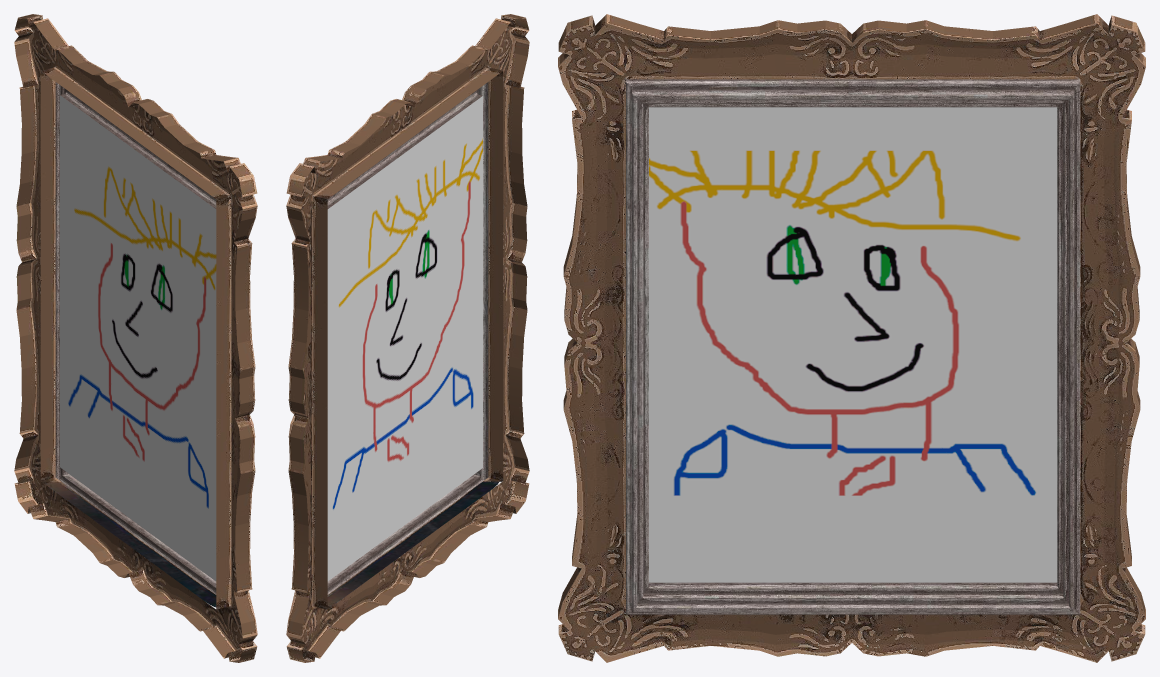
File: Miguel_Art_GokuLisa.fbx
The picture shows the model from 3 angles, left to right: view 1: azimuth 30°, elevation 25°; view 2: azimuth 150°, elevation 25°; view 3: azimuth 270°, elevation 25°; orthographic projection. The views are drawn at different scales.
Visible parts, largest first — view 1: g; view 2: g; view 3: g.
Boxes of the visible parts, <box> form: g: <box>14,14,257,662</box>; g: <box>286,14,529,662</box>; g: <box>558,14,1145,662</box>.
Bounding box in the file's own units: 11.64 × 200 × 167.
